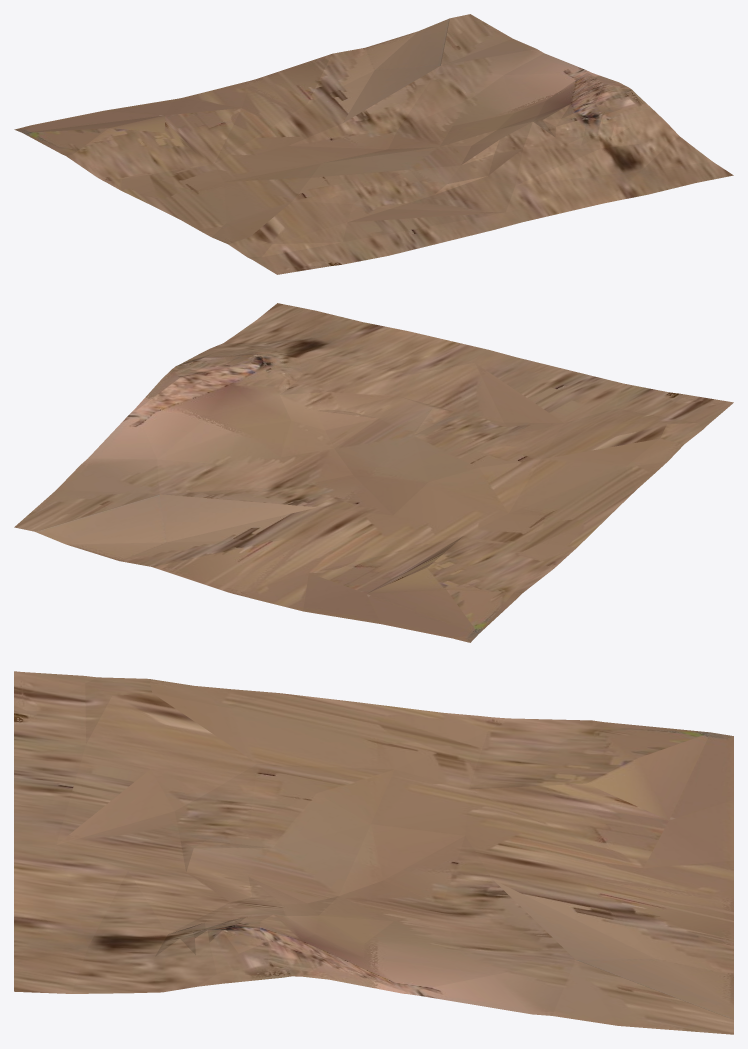
3 renders of one model, top to bottom at view 1: azimuth 30°, elevation 25°; view 2: azimuth 150°, elevation 25°; view 3: azimuth 270°, elevation 25°, orthographic. The views are drawn at different scales.
Bounding box in the file's own units: 2.09 × 0.2746 × 2.09.
3 materials, 3 textured.
